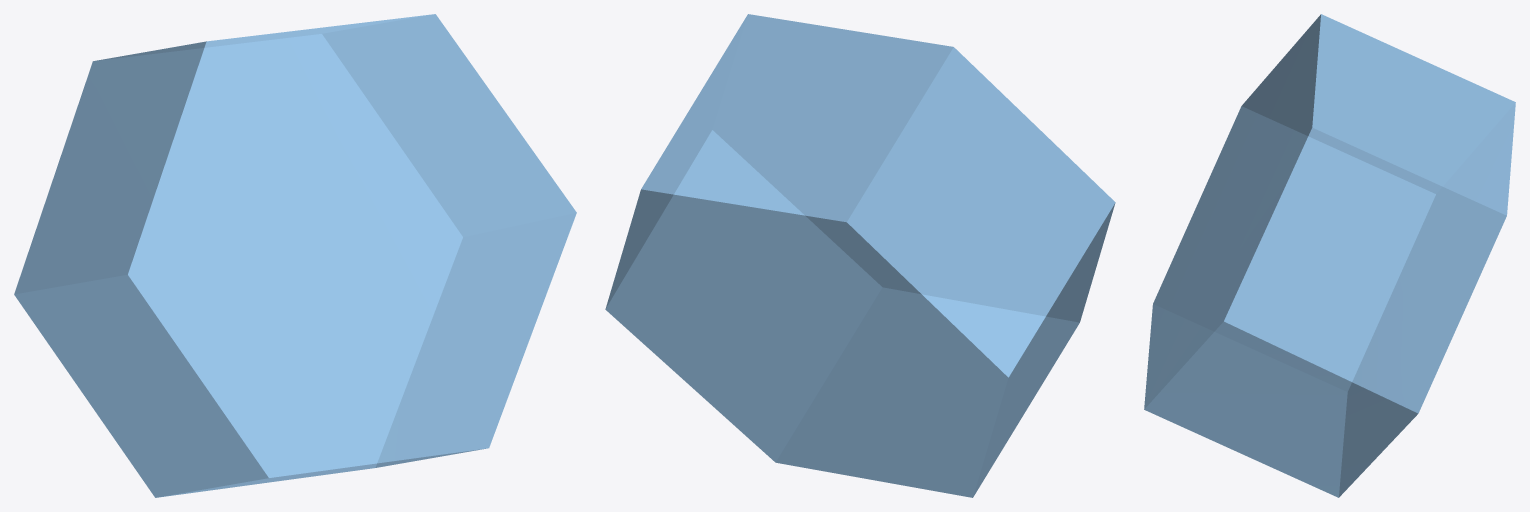
The picture shows the model from 3 angles, left to right: view 1: azimuth 30°, elevation 25°; view 2: azimuth 150°, elevation 25°; view 3: azimuth 270°, elevation 25°; orthographic projection. The views are drawn at different scales.
Bounding box in the file's own units: 4.9 × 5.1 × 4.2.
